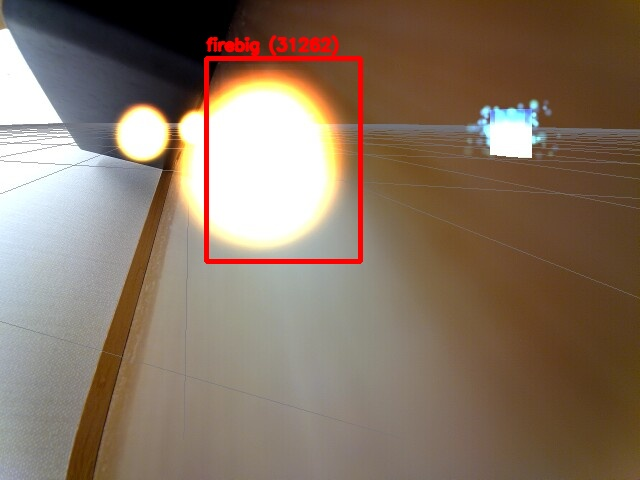firebig: (206, 58, 360, 261)
